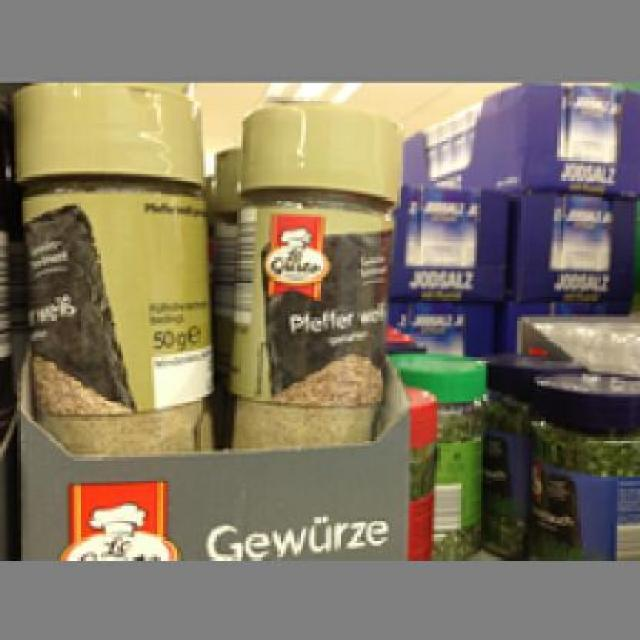Spices: (8, 80, 215, 454), (226, 97, 392, 446), (525, 372, 638, 554)
